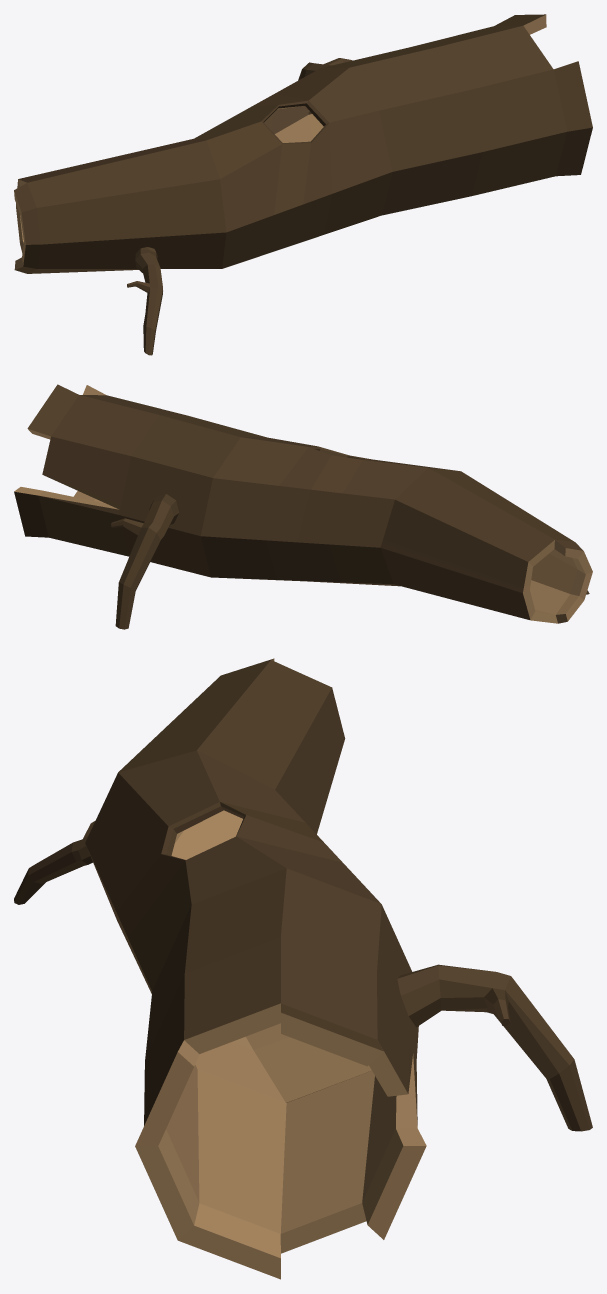
Rendered from bois1.gltf.
The picture shows the model from 3 angles, top to bottom: view 1: azimuth 30°, elevation 25°; view 2: azimuth 150°, elevation 25°; view 3: azimuth 270°, elevation 25°; orthographic projection. The views are drawn at different scales.
Visible parts, largest first — view 1: bois1; view 2: bois1; view 3: bois1.
Boxes of the visible parts, x1=… form: bois1: x1=14, y1=14, x2=592, y2=355; bois1: x1=14, y1=384, x2=592, y2=629; bois1: x1=14, y1=658, x2=592, y2=1279.
Bounding box in the file's own units: 2.96 × 0.8562 × 1.66.
Materials: 2 (2 with a texture image).
